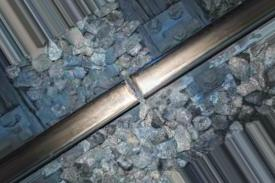tracks_fault: (108, 69, 162, 118)
